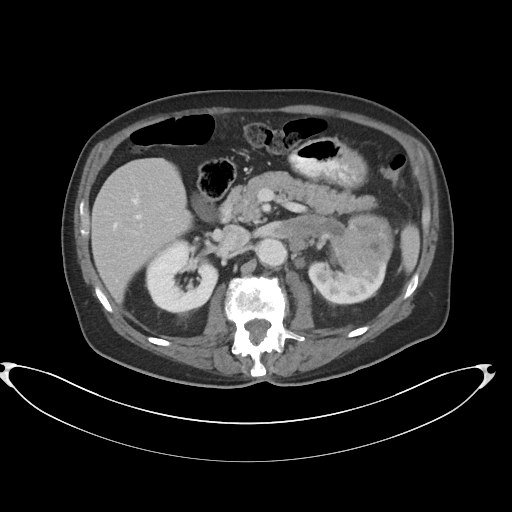Lesion: (336, 212, 398, 278)
